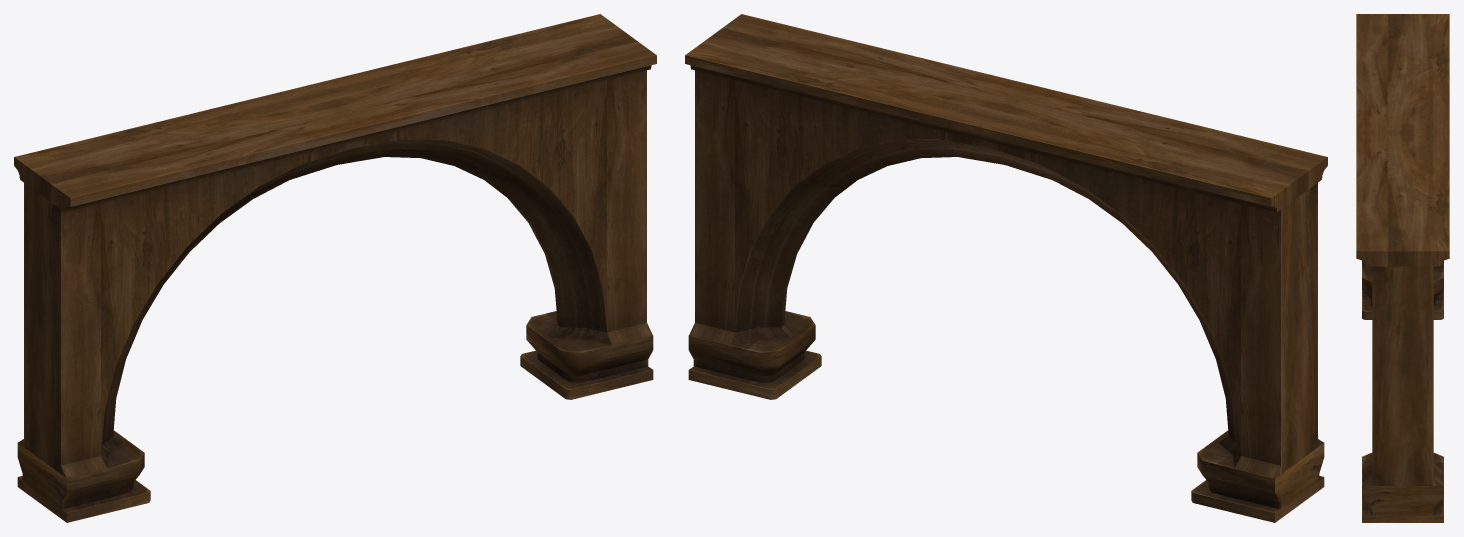
The model's file is FishArchBMergedWood.obj.
3 views of the same model, side by side, from view 1: azimuth 30°, elevation 25°; view 2: azimuth 150°, elevation 25°; view 3: azimuth 270°, elevation 25° (orthographic). The views are drawn at different scales.
Visible parts, largest first — view 1: FishArchBMerged; view 2: FishArchBMerged; view 3: FishArchBMerged.
Part boxes in pixels (<box>): FishArchBMerged: <box>14,14,656,522</box>; FishArchBMerged: <box>685,14,1327,522</box>; FishArchBMerged: <box>1356,14,1449,522</box>.
Bounding box in the file's own units: 480 × 256 × 80.
1 material, 1 textured.
